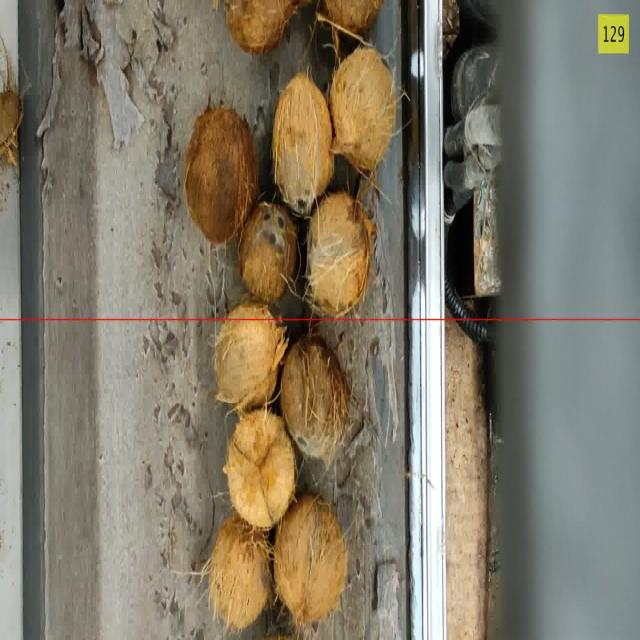Coconut-Conveyor-Belt: (186, 106, 257, 245), (274, 495, 346, 626), (280, 336, 349, 463), (272, 73, 333, 216), (223, 408, 295, 529), (307, 192, 373, 317), (330, 47, 396, 171), (203, 514, 271, 631), (215, 303, 287, 410), (240, 203, 297, 303), (225, 0, 308, 53), (0, 37, 22, 166), (325, 0, 383, 33), (0, 92, 22, 165)
